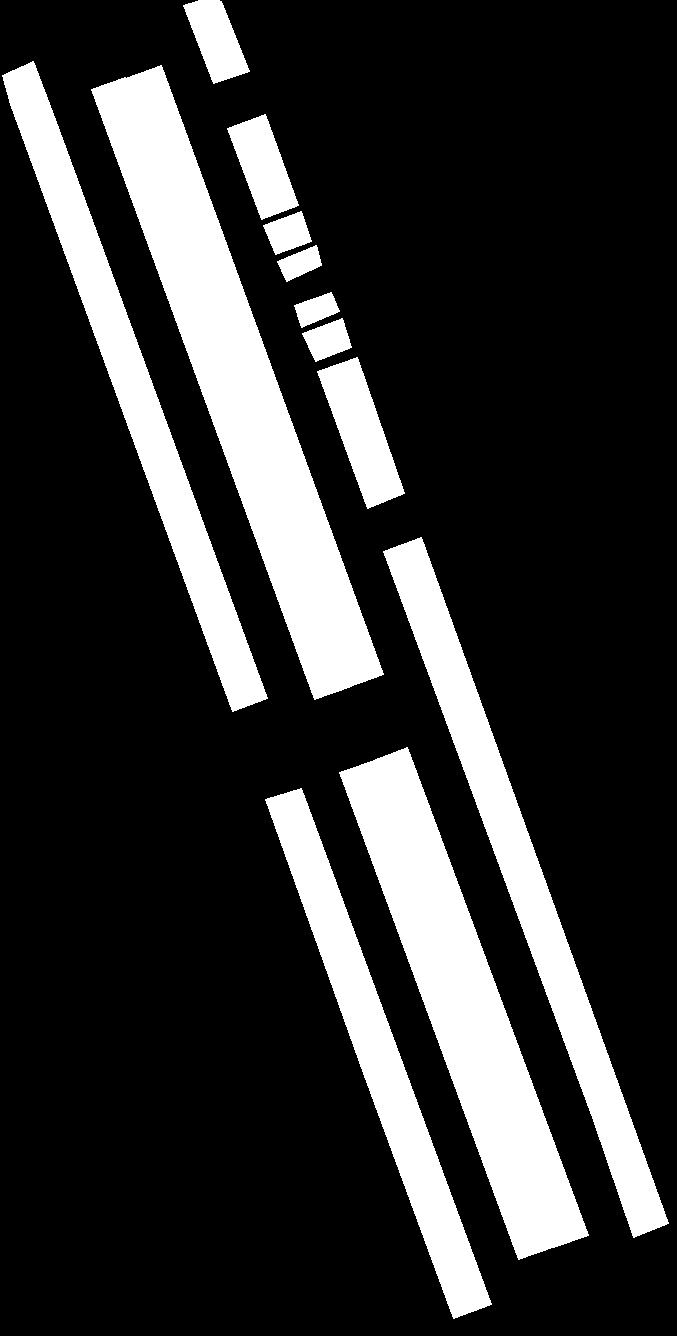parkingspot: (383, 537, 668, 1237), (2, 61, 267, 711), (91, 77, 351, 699), (125, 65, 383, 687), (265, 788, 491, 1318), (339, 759, 555, 1259), (373, 747, 588, 1247), (317, 357, 404, 508), (227, 114, 298, 219), (183, 0, 249, 83), (302, 318, 351, 361), (263, 211, 311, 254), (277, 245, 321, 281), (294, 292, 339, 327)
